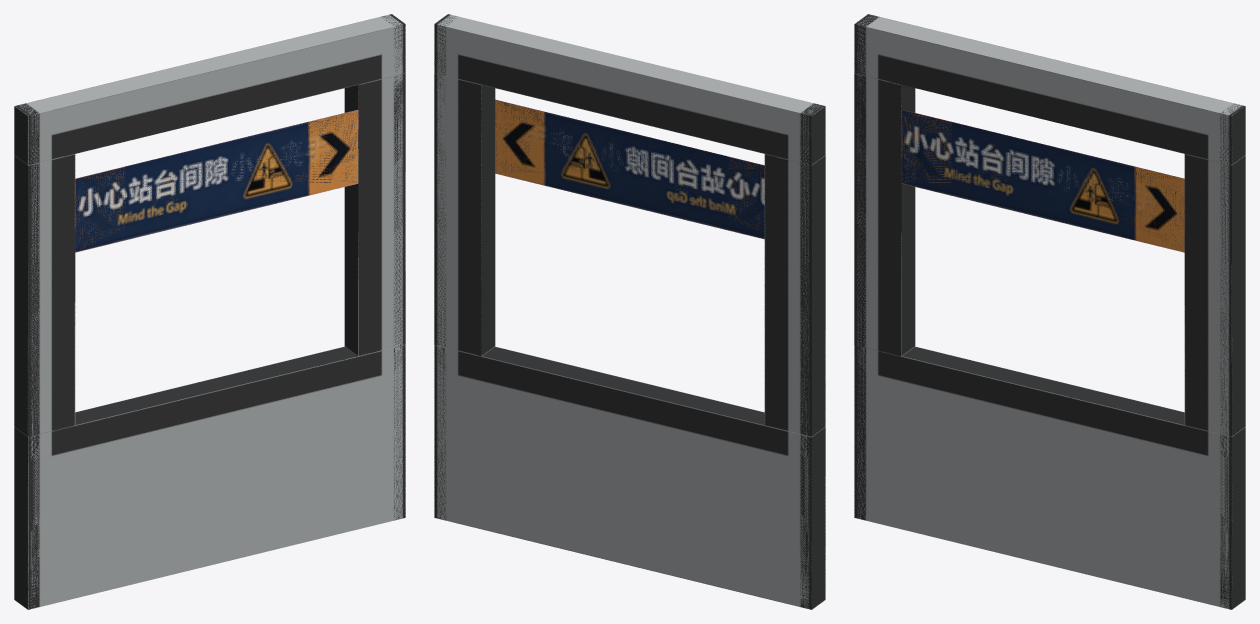
The model's file is door_low.obj.
The picture shows the model from 3 angles, left to right: view 1: azimuth 30°, elevation 25°; view 2: azimuth 150°, elevation 25°; view 3: azimuth 330°, elevation 25°; orthographic projection.
Visible parts, largest first — view 1: left, right; view 2: left, right; view 3: left, right.
Part boxes in pixels (x1,y1,x2,y2): left: (14,14,405,609); right: (14,15,405,609); left: (434,14,825,609); right: (434,14,825,609); left: (854,14,1245,609); right: (854,14,1245,609).
Bounding box in the file's own units: 1 × 1.25 × 0.0625.
